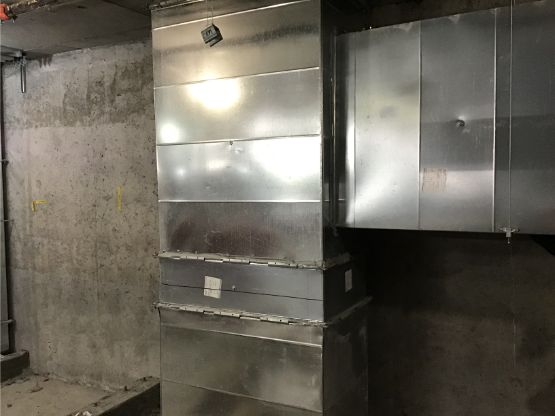Duct: (135, 1, 377, 416), (320, 1, 555, 244)
